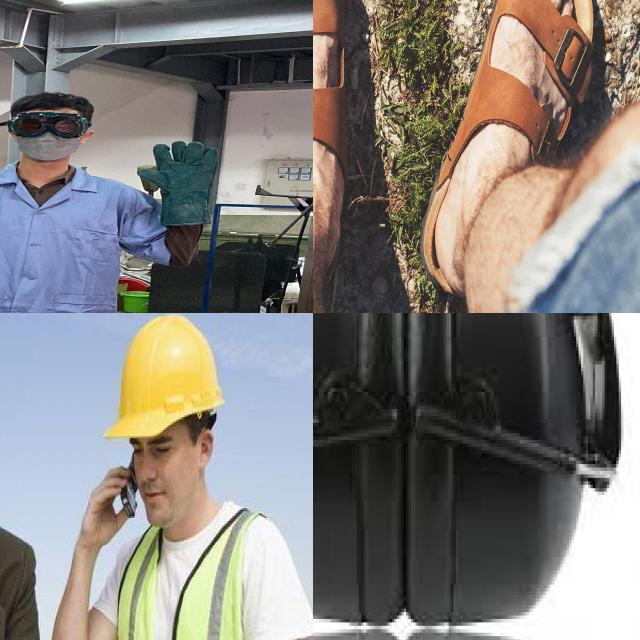Ear-protection: (401, 313, 585, 622), (313, 313, 401, 622)
Sandals: (425, 0, 594, 303), (313, 0, 360, 258)
face_mask: (2, 111, 92, 164)
face_nomask: (126, 435, 183, 512)
glasses: (0, 106, 96, 140)
hand_glove: (133, 139, 230, 199)
hand_noglove: (98, 313, 228, 443), (76, 463, 142, 545)
head_nohelmet: (8, 88, 95, 116)
person: (49, 313, 313, 640), (0, 90, 237, 313)
vest: (113, 501, 313, 640)
